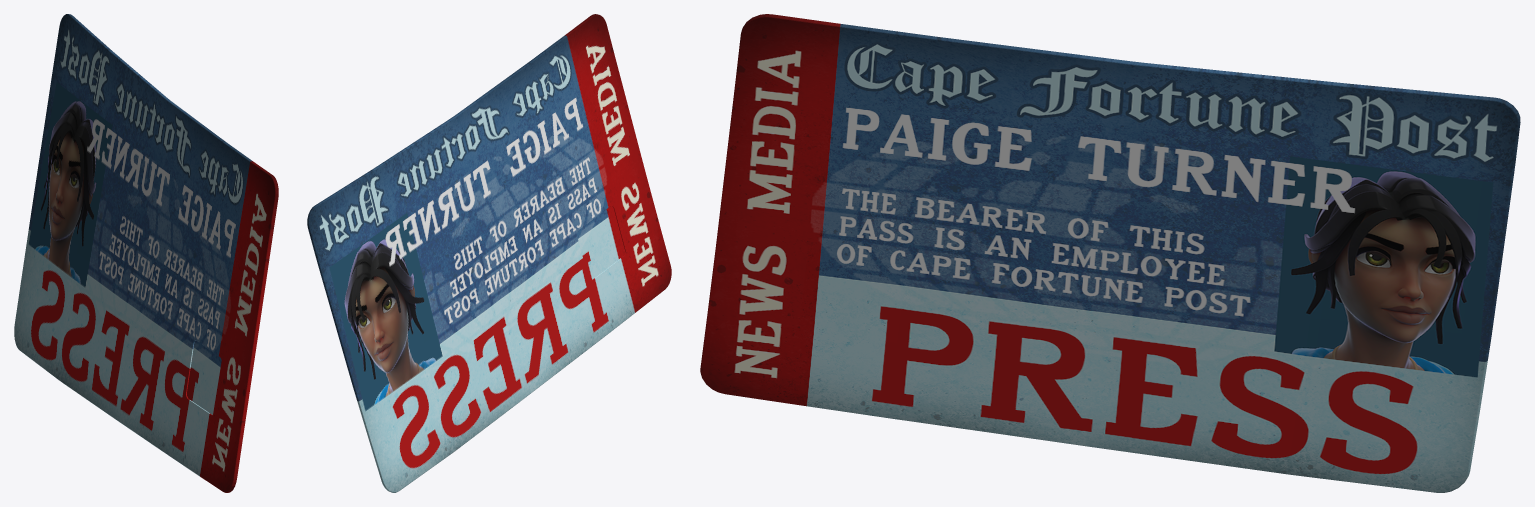
File: id_card.fbx
3 views of the same model, side by side, from view 1: azimuth 30°, elevation 25°; view 2: azimuth 150°, elevation 25°; view 3: azimuth 270°, elevation 25° (orthographic). The views are drawn at different scales.
Visible parts, largest first — view 1: card; view 2: card; view 3: card.
Part boxes in pixels (x1=…): card: x1=14, y1=14, x2=278, y2=492; card: x1=307, y1=14, x2=671, y2=492; card: x1=700, y1=14, x2=1520, y2=492.
Size of the model in its own units: 11.86 by 33.56 by 50.68.
Materials: 1 (1 with a texture image).
